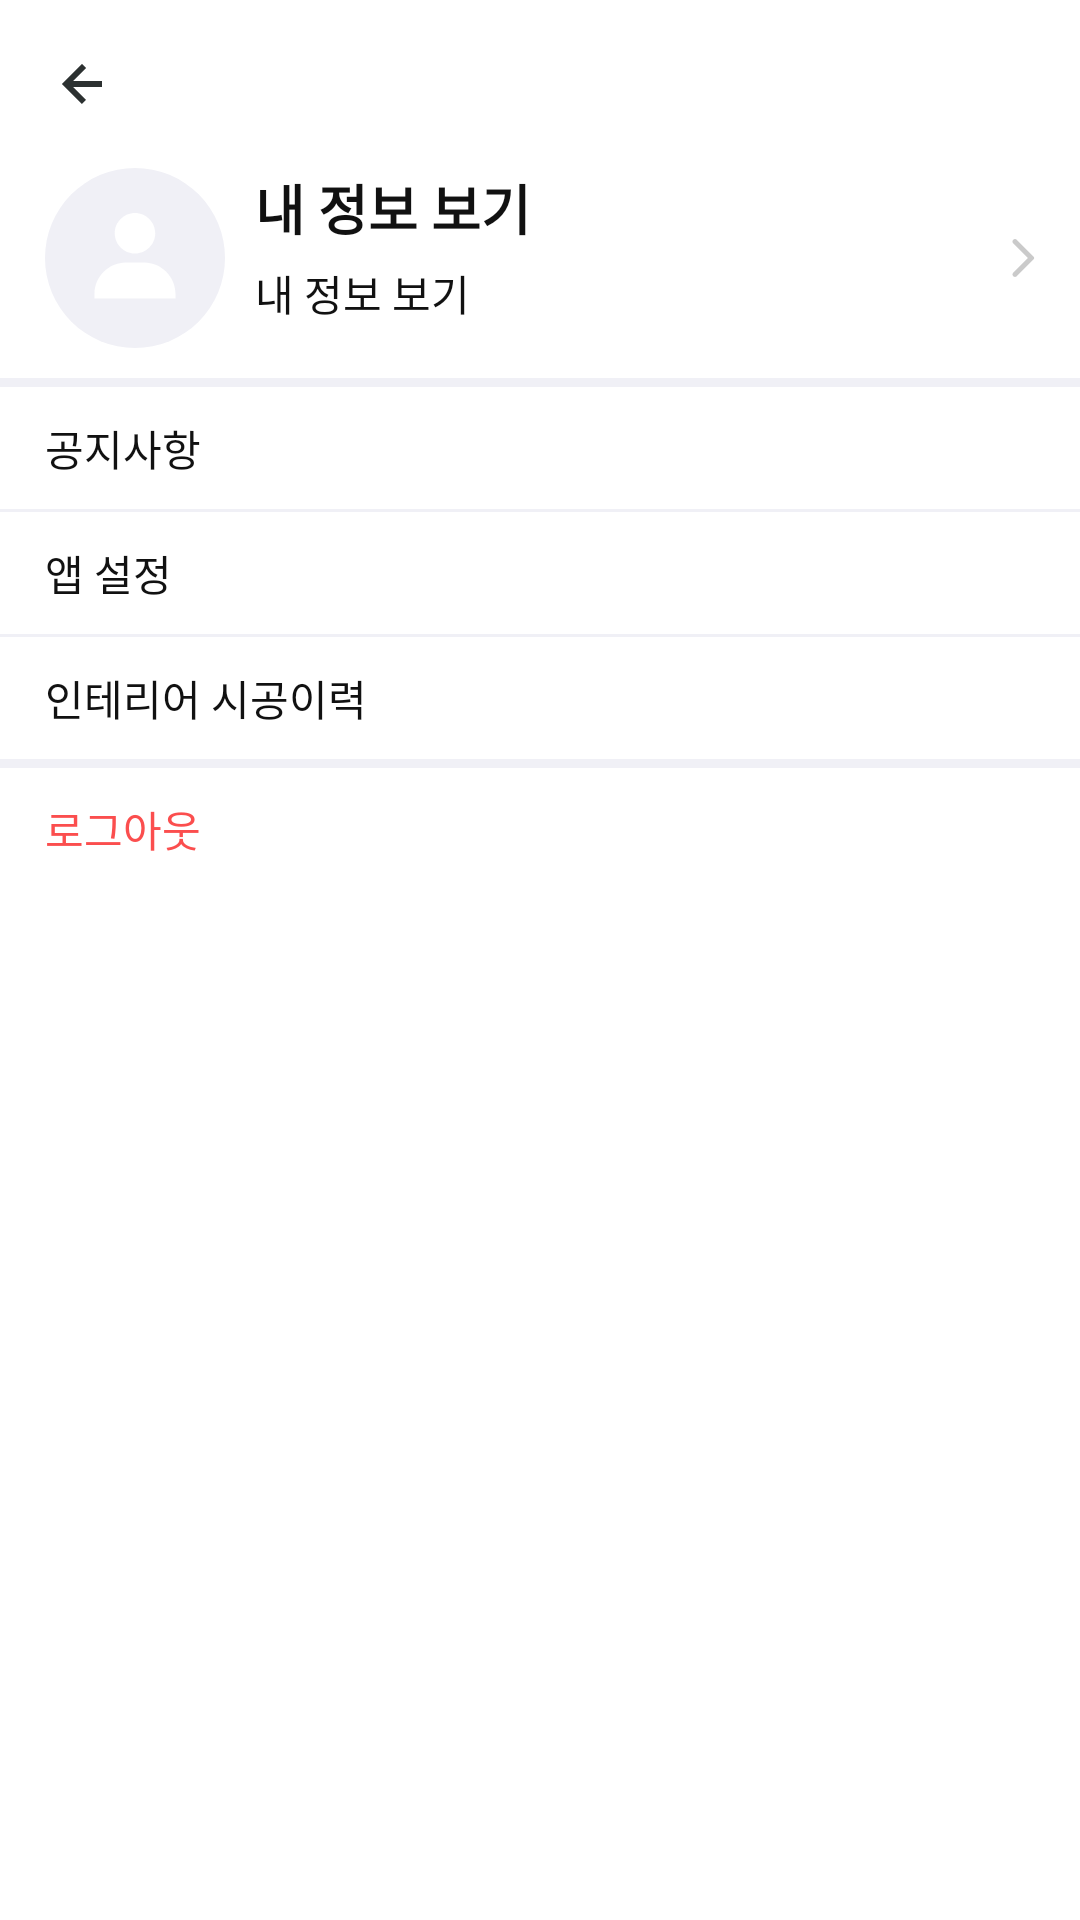

Icon click points for this 1080×1920 phone screenshot, format (x=x, y=y):
back: (x=82, y=84)
right: (x=1023, y=258)
